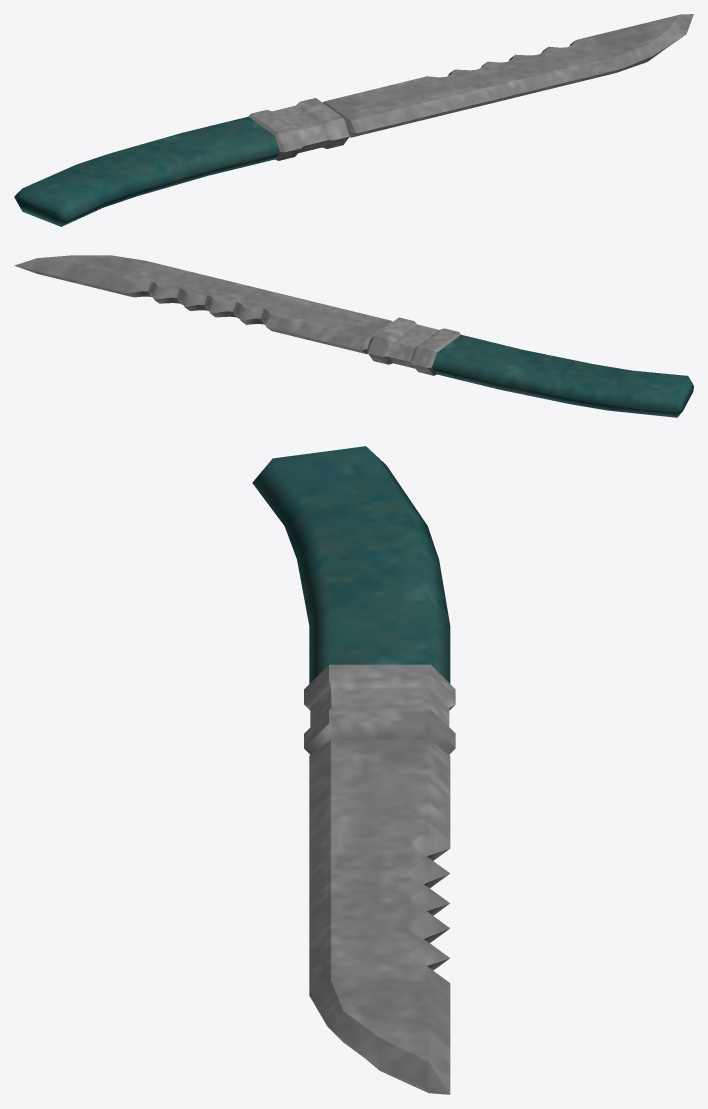
Rendered from SM_Dagger_01.fbx.
3 views of the same model, one above another, from view 1: azimuth 30°, elevation 25°; view 2: azimuth 150°, elevation 25°; view 3: azimuth 270°, elevation 25° (orthographic). The views are drawn at different scales.
Visible parts, largest first — view 1: SM_Dagger_01_LOD0; view 2: SM_Dagger_01_LOD0; view 3: SM_Dagger_01_LOD0.
Part boxes in pixels (x1=…): SM_Dagger_01_LOD0: x1=14, y1=14, x2=693, y2=226; SM_Dagger_01_LOD0: x1=14, y1=255, x2=693, y2=417; SM_Dagger_01_LOD0: x1=252, y1=446, x2=455, y2=1094.
Size of the model in its own units: 60 by 8.17 by 2.24.
Materials: 2 (2 with a texture image).
